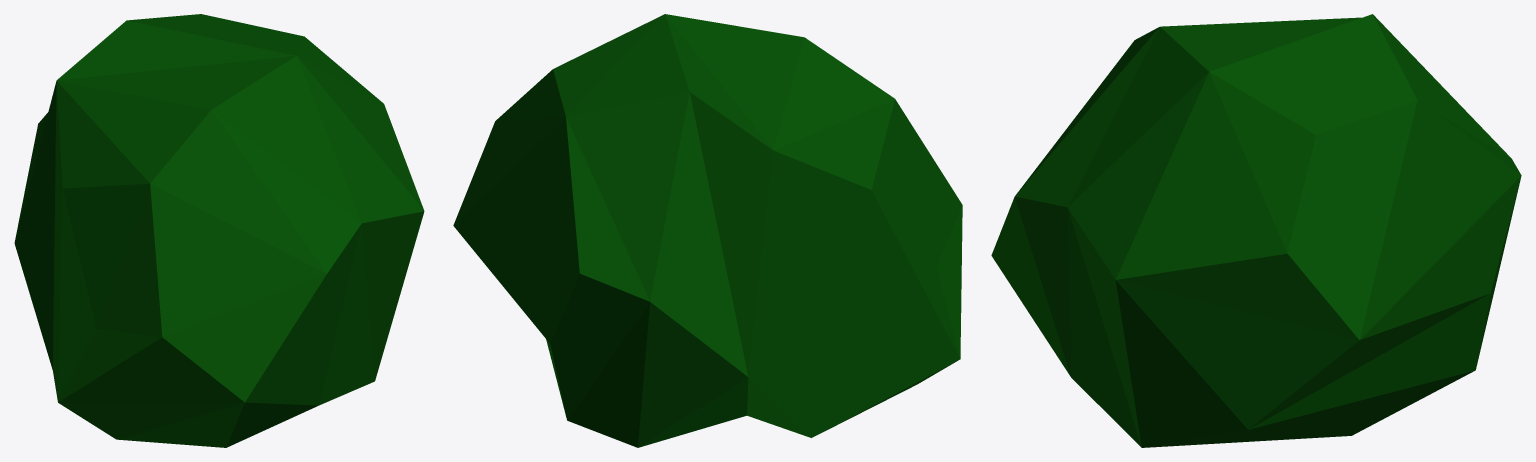
Rendered from Bush01.fbx.
3 renders of one model, left to right at view 1: azimuth 30°, elevation 25°; view 2: azimuth 150°, elevation 25°; view 3: azimuth 270°, elevation 25°, orthographic. The views are drawn at different scales.
Visible parts, largest first — view 1: TreeBush01; view 2: TreeBush01; view 3: TreeBush01.
Boxes of the visible parts, left/top/right/bottom form: TreeBush01: left=14, top=14, right=424, bottom=447; TreeBush01: left=453, top=14, right=962, bottom=447; TreeBush01: left=991, top=14, right=1521, bottom=447.
Bounding box in the file's own units: 0.5681 × 0.5057 × 0.6089.
